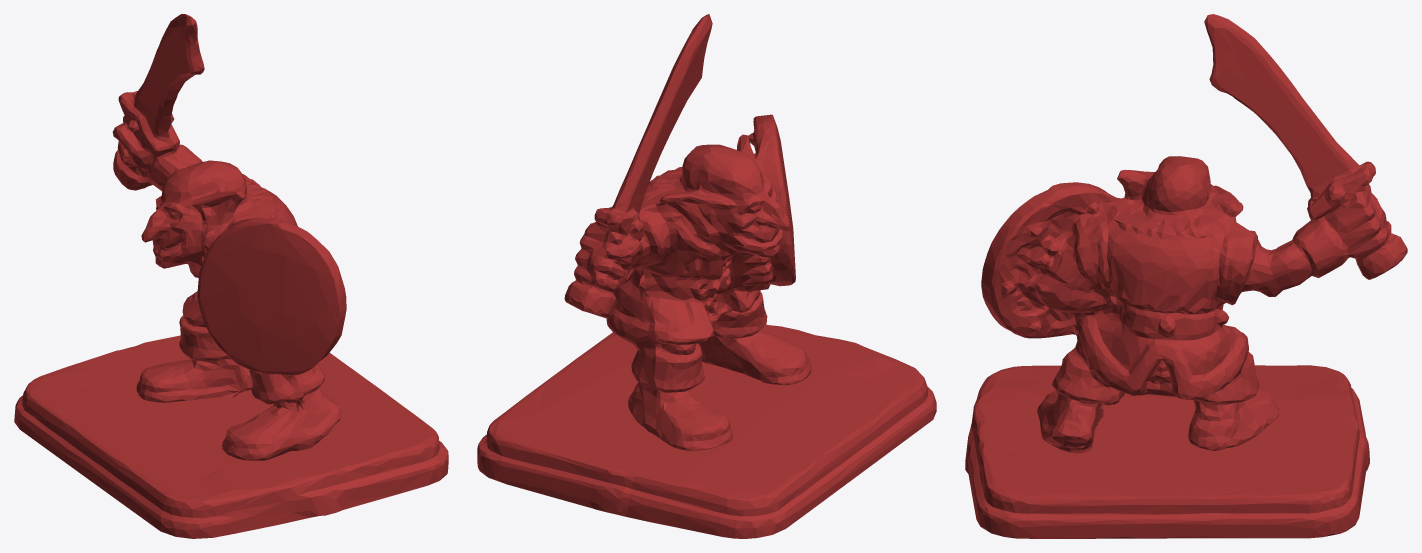
File: goblin.glb
3 views of the same model, side by side, from view 1: azimuth 30°, elevation 25°; view 2: azimuth 150°, elevation 25°; view 3: azimuth 270°, elevation 25° (orthographic). The views are drawn at different scales.
Parts seen in each view (by area): view 1: Goblins_Chaos_Army; view 2: Goblins_Chaos_Army; view 3: Goblins_Chaos_Army.
Boxes of the visible parts, x1,y1,x2,y2 form: Goblins_Chaos_Army: (14,14,448,538); Goblins_Chaos_Army: (477,14,936,538); Goblins_Chaos_Army: (965,14,1407,538).
Size of the model in its own units: 12.76 by 17.81 by 16.25.
